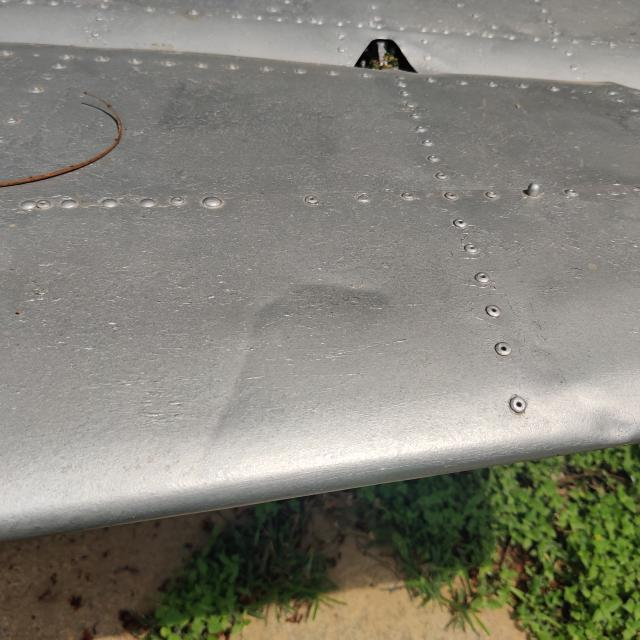dent: (166, 282, 314, 460), (271, 222, 427, 354), (574, 380, 640, 463)
